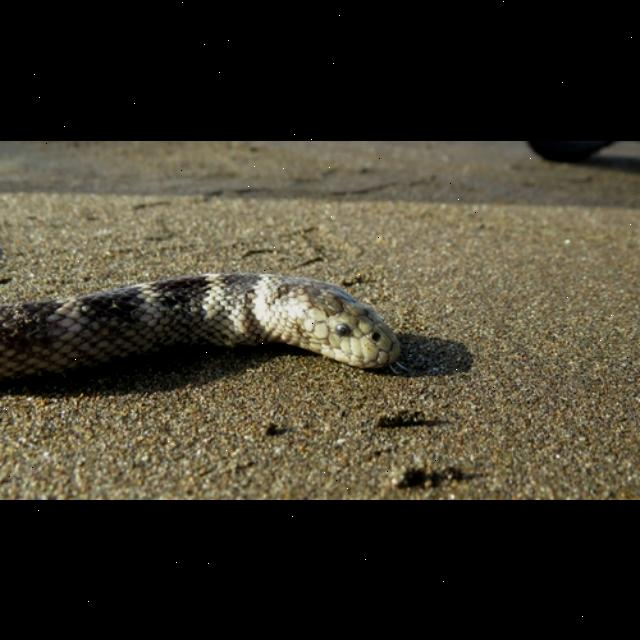snake: (0, 263, 424, 399)
